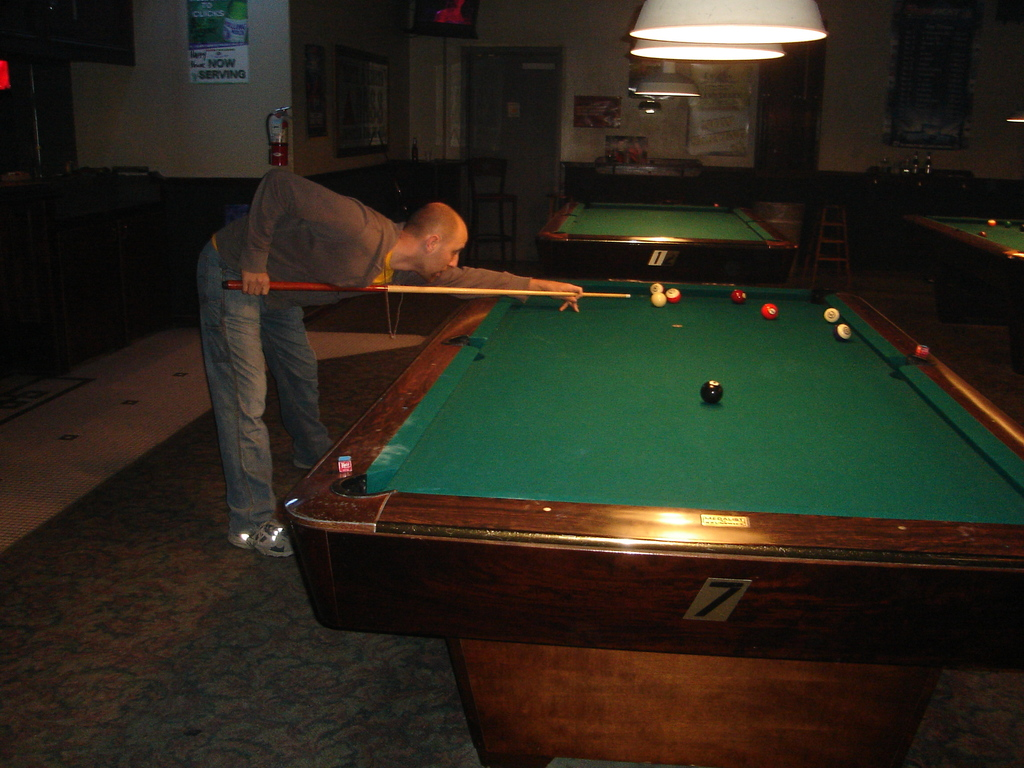Ball: (701, 379, 719, 403), (836, 322, 851, 340), (652, 290, 666, 307), (761, 301, 775, 316), (824, 308, 837, 322), (916, 344, 929, 358), (667, 286, 677, 300), (733, 291, 742, 305), (652, 281, 663, 290), (989, 219, 997, 227), (980, 230, 988, 237), (1003, 220, 1007, 228)
